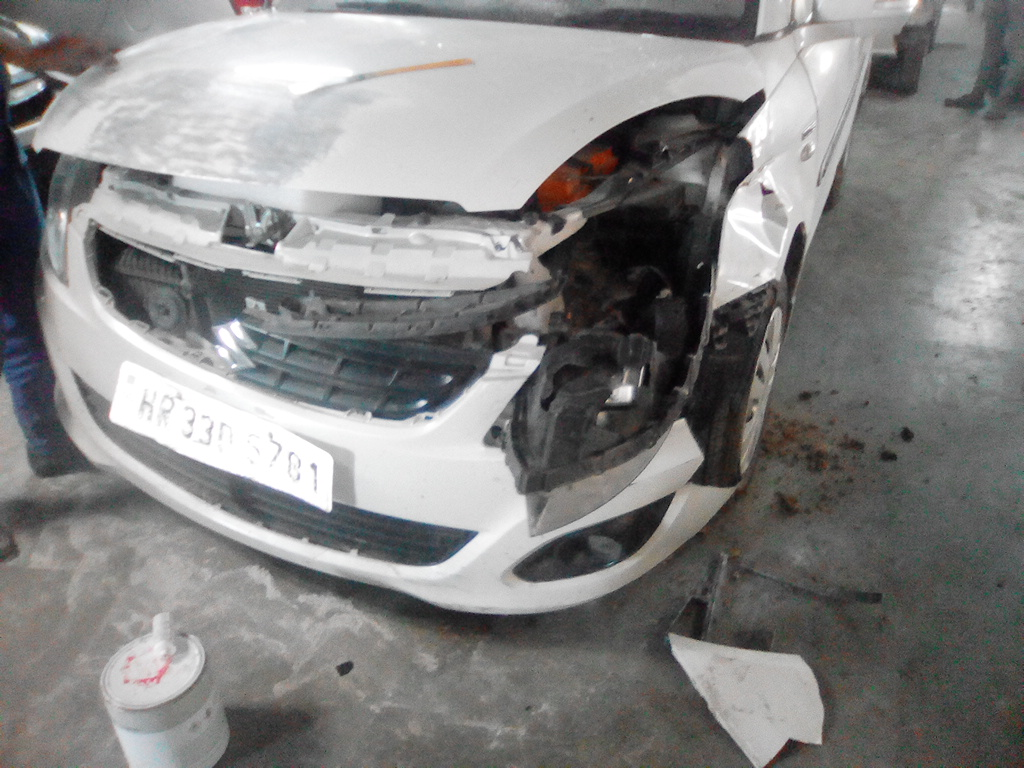Large_tear_or_damage: (429, 101, 810, 551)
